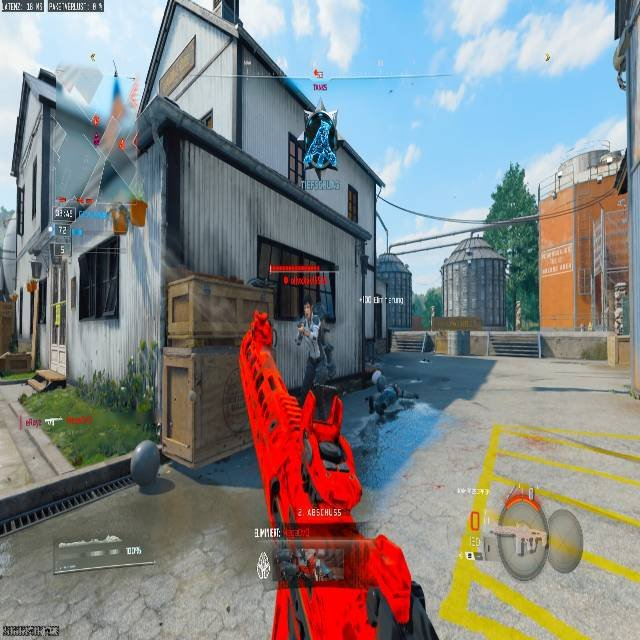head: (371, 370, 386, 391), (304, 301, 312, 315)
player: (298, 106, 339, 175)
